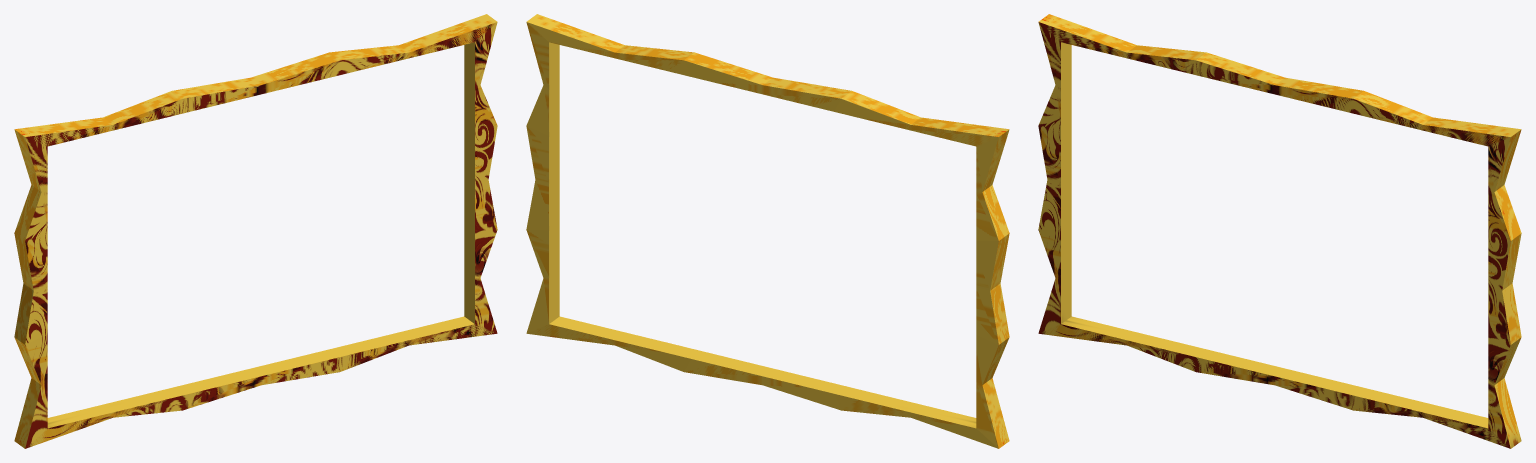
Rendered from Frame.fbx.
The picture shows the model from 3 angles, left to right: view 1: azimuth 30°, elevation 25°; view 2: azimuth 150°, elevation 25°; view 3: azimuth 330°, elevation 25°; orthographic projection.
Parts seen in each view (by area): view 1: Cube; view 2: Cube; view 3: Cube.
Boxes of the visible parts, x1,y1,x2,y2 form: Cube: (14, 14, 497, 448); Cube: (526, 14, 1009, 448); Cube: (1038, 14, 1521, 448).
Bounding box in the file's own units: 200 × 126 × 7.91.
1 material, 1 textured.
